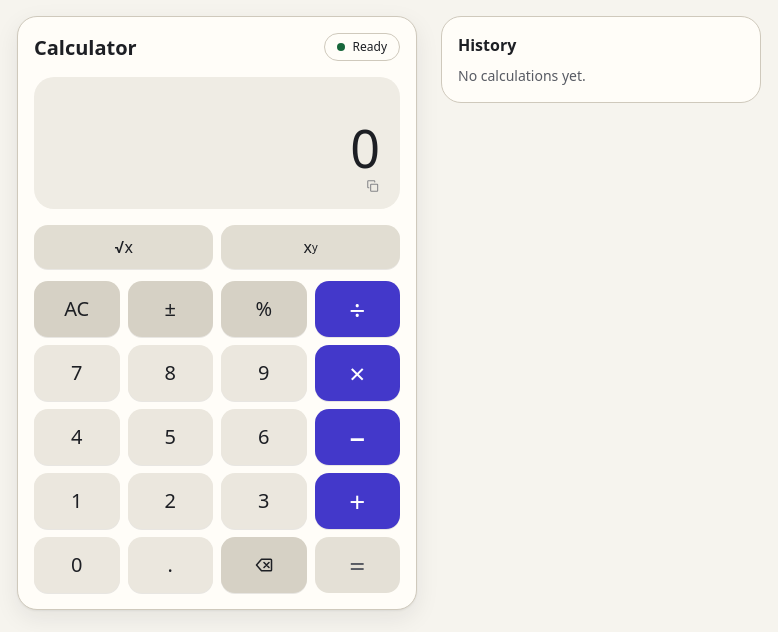
CalculatorPage › calculations › sends only a for the square root
This screenshot has width=778, height=632.
Click the button "1" at (77, 501), box [34,473,120,529]
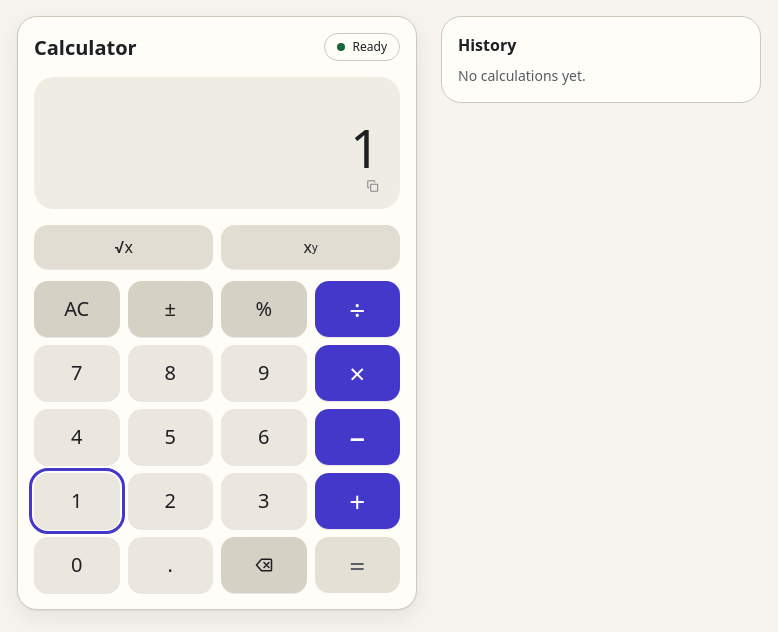
Click the button "6" at (264, 437), box [221,409,306,465]
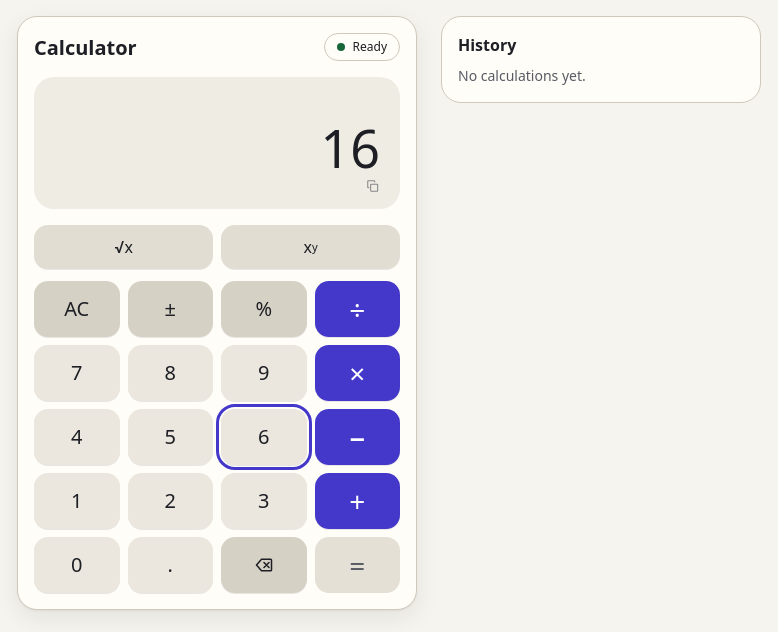
Click the button named "square root of x" at (124, 247), box [34,225,213,269]
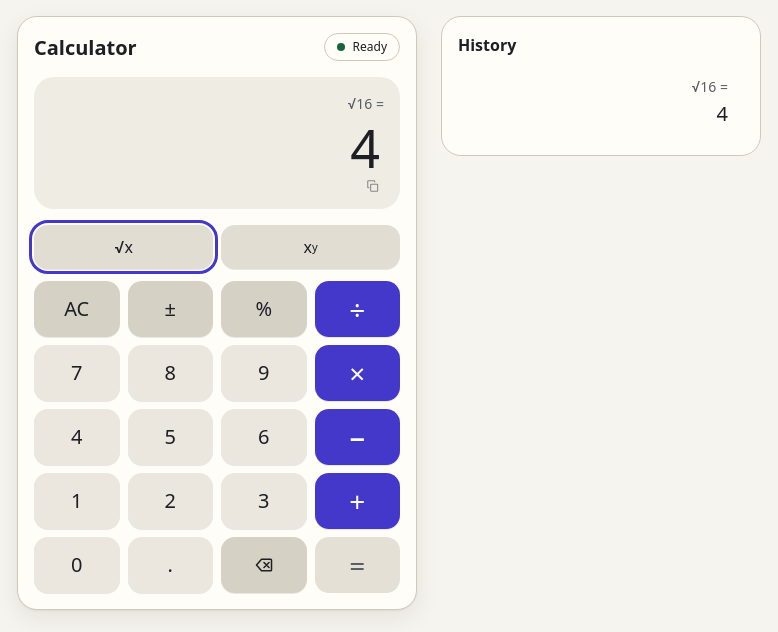
Now the button named "4, copy" is shown, box [340,118,384,178]
Now the element named "Display" shows "√16 =", box [348,94,384,113]
